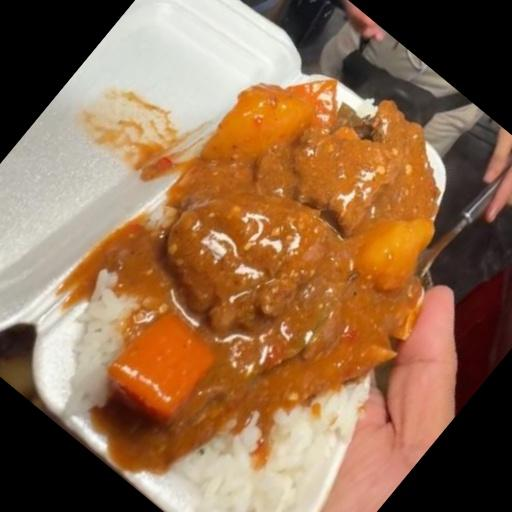pork caldereta: (117, 89, 440, 424)
